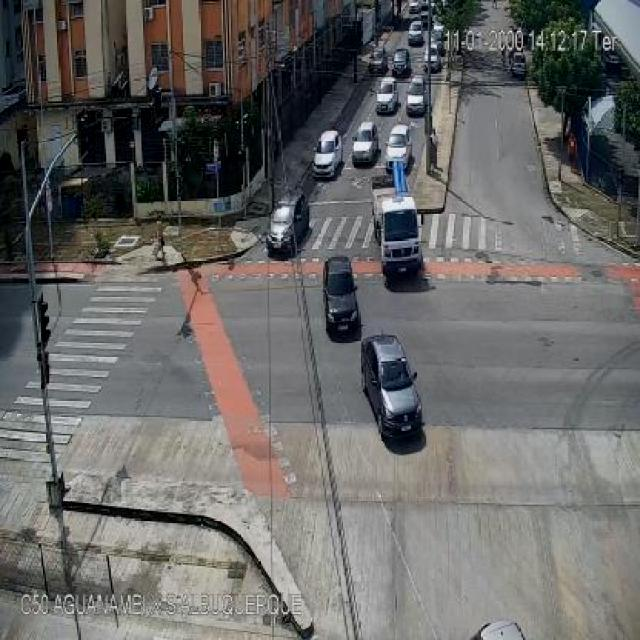Car: (360, 336, 423, 439), (370, 185, 423, 277), (322, 258, 359, 334), (268, 191, 310, 257), (312, 130, 343, 177), (386, 124, 414, 170), (352, 123, 379, 166), (374, 78, 398, 114), (406, 77, 426, 115), (391, 48, 411, 76), (422, 46, 442, 73), (368, 48, 388, 75), (509, 51, 526, 78), (407, 21, 424, 45), (432, 24, 446, 52)
